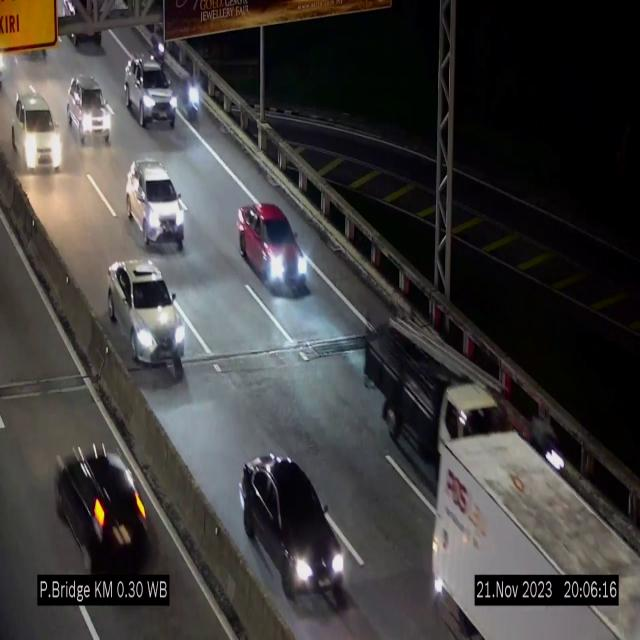Car: (44, 432, 166, 586), (234, 453, 344, 594), (108, 260, 184, 372), (237, 198, 311, 302), (126, 154, 185, 248), (15, 91, 63, 172), (124, 55, 177, 128), (68, 76, 114, 146)
Motorcycle: (522, 409, 564, 478), (179, 67, 200, 126), (152, 21, 168, 74)
Truck: (429, 429, 640, 639), (363, 306, 506, 479)
